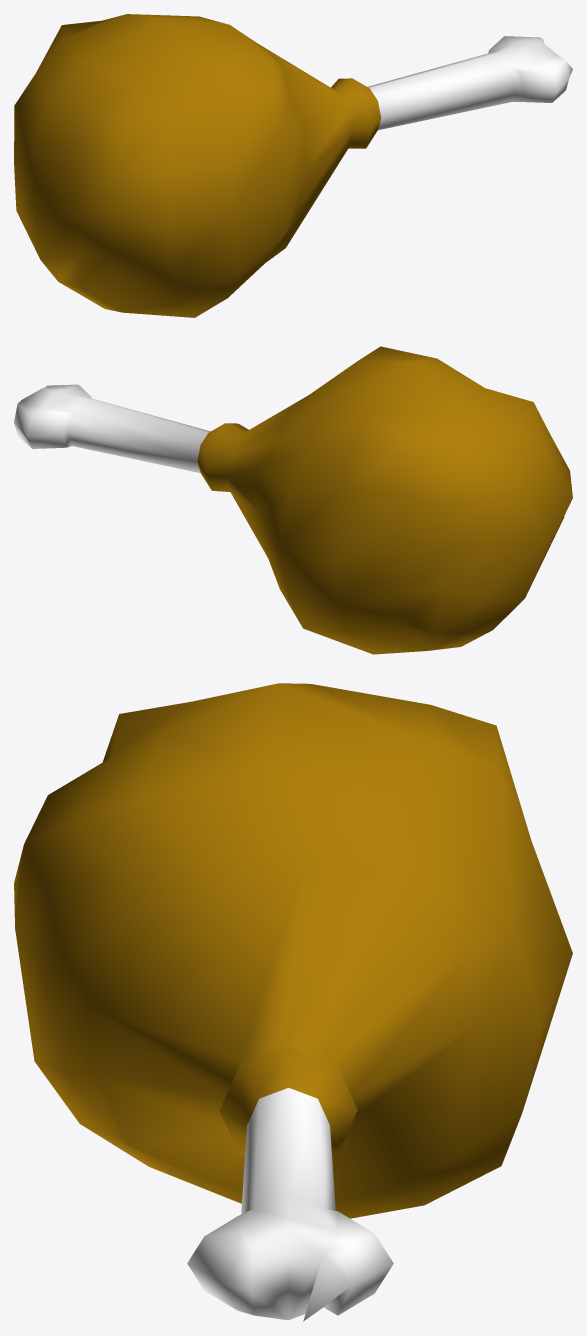
File: Chicken_meat.gltf
3 renders of one model, top to bottom at view 1: azimuth 30°, elevation 25°; view 2: azimuth 150°, elevation 25°; view 3: azimuth 270°, elevation 25°, orthographic. The views are drawn at different scales.
Visible parts, largest first — view 1: Chicken_meat; view 2: Chicken_meat; view 3: Chicken_meat.
Part boxes in pixels (x1,y1,x2,y2): Chicken_meat: [14, 14, 572, 317]; Chicken_meat: [14, 346, 572, 654]; Chicken_meat: [14, 683, 572, 1321].
Bounding box in the file's own units: 7.31 × 3.7 × 3.71.
